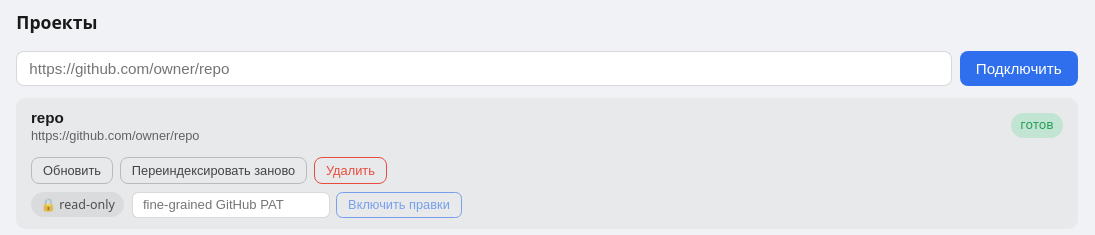
Test: ProjectsPanel › отправка токена вызывает putProjectToken и обновляет бейдж
Type "github_pat_secret" into the password field named "GitHub-токен для repo" at (231, 205), box left=132, top=192, right=330, bottom=218
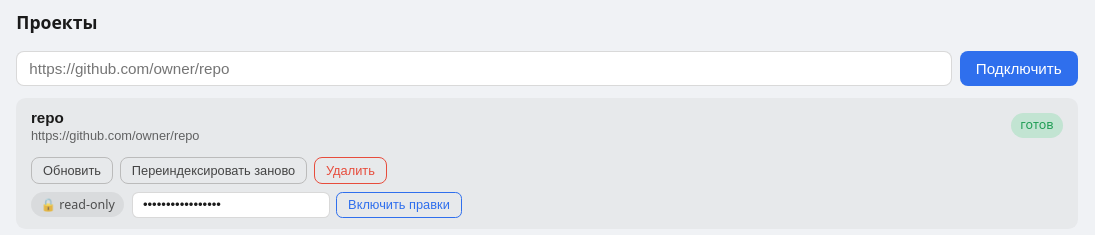
Click the button "Включить правки" at (399, 205), box left=336, top=192, right=462, bottom=218
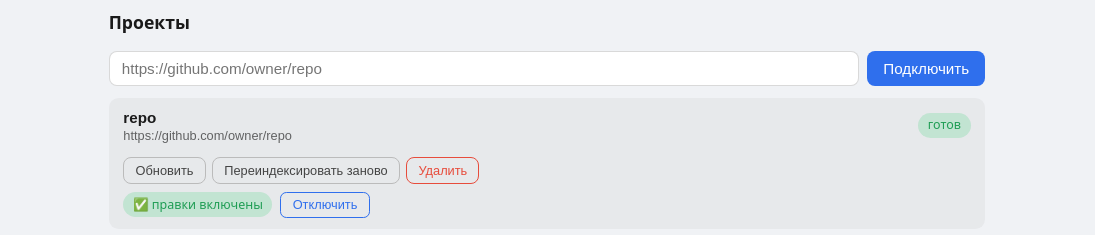
Result: the text "✅ правки включены" is shown at left=123, top=192, right=272, bottom=217
